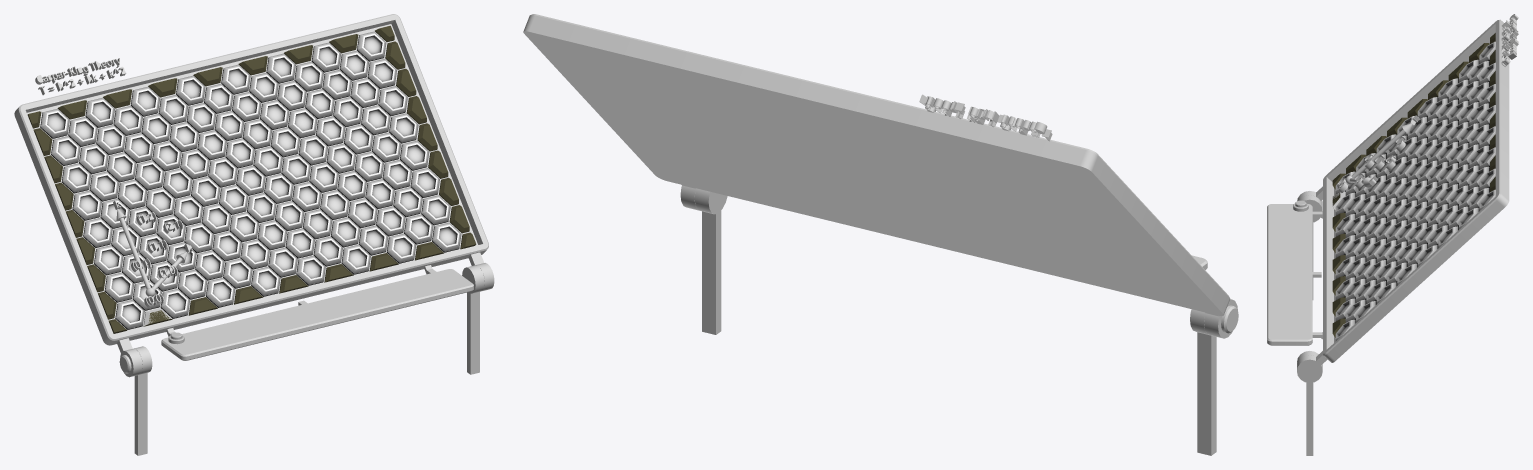
File: ScreenFrameButtonHolder.fbx
The picture shows the model from 3 angles, left to right: view 1: azimuth 30°, elevation 25°; view 2: azimuth 150°, elevation 25°; view 3: azimuth 270°, elevation 25°; orthographic projection. The views are drawn at different scales.
Parts seen in each view (by area): view 1: Frame, Cube, Cube_1, Cylinder_2, Hexago_Subunit_16, Hexago_Subunit_72, Hexago_Subunit_73, Hexago_Subunit_17, Hexago_Subunit_19, Hexago_Subunit_30, Hexago_Subunit_31, Hexago_Subunit_58 (+104 smaller); view 2: Frame, Cube_1, Cylinder_2, Cylinder_3; view 3: Frame, Cube, Cube_1, Cylinder_3, Cylinder_2, Cylinder_4.
Part boxes in pixels (x1,y1,x2,y2): Frame: (14,14,488,345); Cube: (161,269,473,360); Cube_1: (134,292,479,455); Cylinder_2: (134,265,484,374); Hexago_Subunit_16: (404,214,433,244); Hexago_Subunit_72: (180,149,209,179); Hexago_Subunit_73: (225,138,254,168); Hexago_Subunit_17: (104,272,133,302); Hexago_Subunit_19: (195,250,224,280); Hexago_Subunit_30: (348,198,377,228); Hexago_Subunit_31: (393,187,422,217); Hexago_Subunit_58: (236,165,265,195); Frame: (523,14,1230,315); Cube_1: (702,210,1216,455); Cylinder_2: (694,188,1208,334); Cylinder_3: (680,185,1237,338); Frame: (1323,19,1509,362); Cube: (1267,204,1321,345); Cube_1: (1306,223,1313,455); Cylinder_3: (1297,191,1322,382); Cylinder_2: (1297,195,1322,365); Cylinder_4: (1351,129,1405,178).
Size of the model in its own units: 1628 by 1219 by 970.
3 materials, 1 textured.
